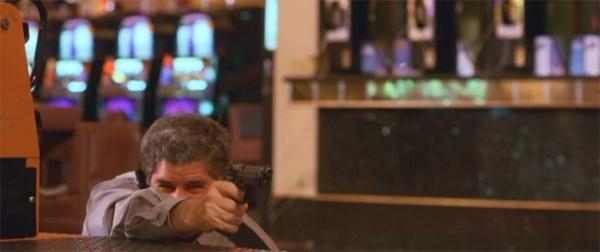Gun: (221, 162, 273, 200)
